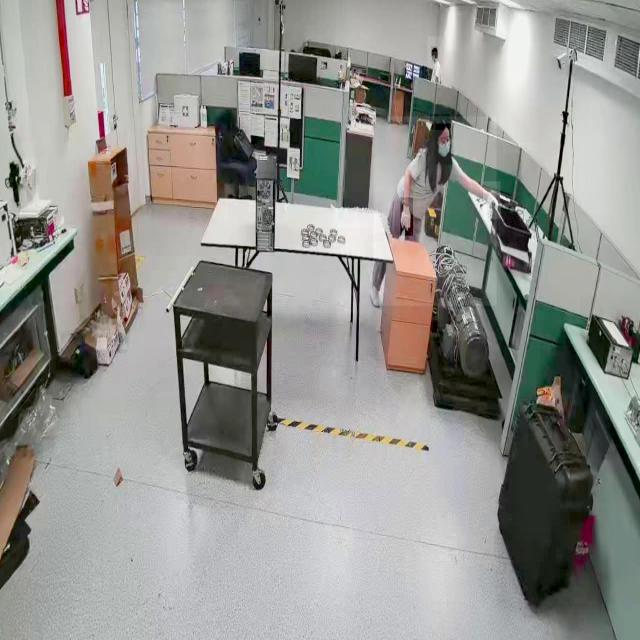face_mask: (436, 124, 454, 164)
hand_glove: (483, 182, 501, 220), (401, 198, 414, 236)
head_nohelmet: (430, 114, 450, 130), (431, 46, 438, 52)
person: (373, 116, 497, 306), (427, 36, 443, 82)
